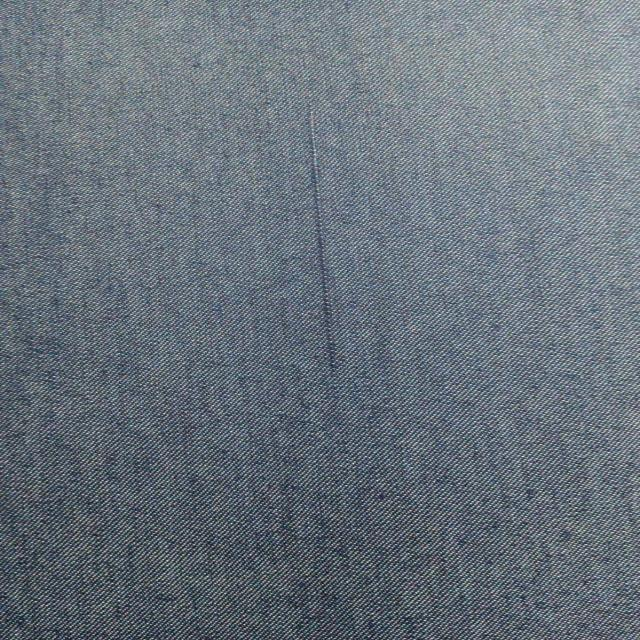Line: (303, 100, 343, 373)
